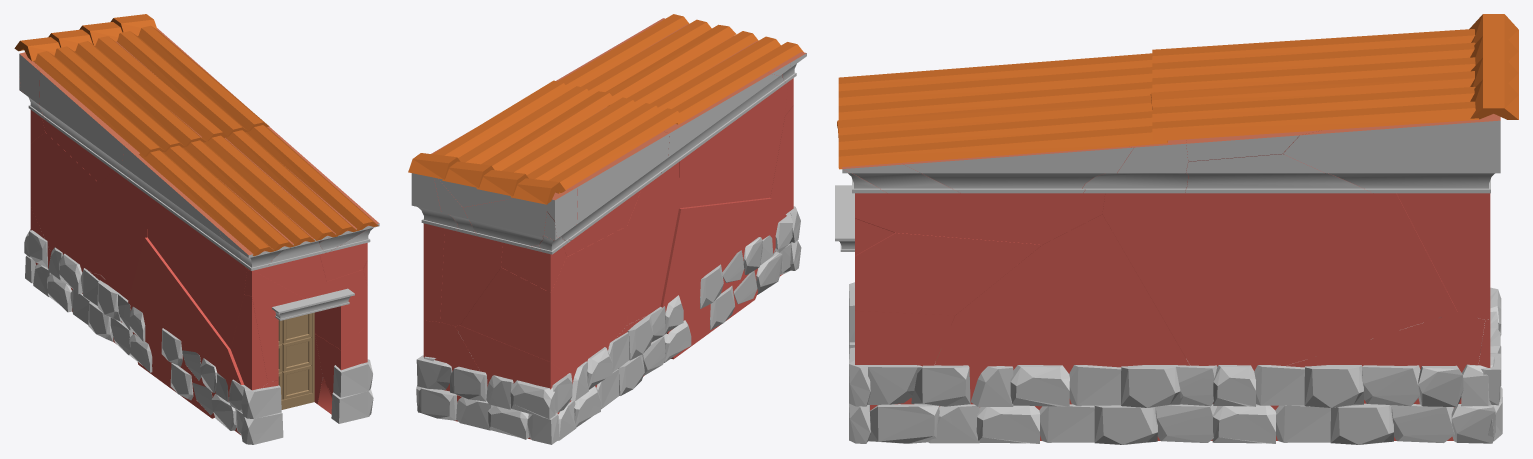
File: attachment_02_fragments.fbx
The picture shows the model from 3 angles, left to right: view 1: azimuth 30°, elevation 25°; view 2: azimuth 150°, elevation 25°; view 3: azimuth 270°, elevation 25°; orthographic projection. The views are drawn at different scales.
Visible parts, largest first — view 1: Object243.001_cell.009, Object243.001_cell.021, Object243.001_cell.006, Object243.001_cell.020, Object243_cell.013, Object243_cell.010, Object243.003, Object243.009, Object243.007, Object243.001_cell.013, Object243.008, Object243.005 (+47 smaller); view 2: Object243.001_cell.021, Object243.001_cell.009, Object243.001_cell.006, Object243.001_cell.020, Object243_cell.013, Object243.001_cell.019, Object243_cell.010, Object243_cell.011, Object243.001_cell.011, Object243.009, Object243.006, Object243.008 (+50 smaller); view 3: Object243.001_cell.020, Object243.001_cell.007, Object243_cell.014, Object243.001_cell.013, Object243.001_cell.015, Object243.001_cell.018, Object243_cell, Object243.008, Object243.001_cell.008, Object243.018, Object243_cell.002, Object243.006 (+45 smaller).
Part boxes in pixels (<box>): Object243.001_cell.009: <box>128,237,244,418</box>; Object243.001_cell.021: <box>30,132,100,274</box>; Object243.001_cell.006: <box>147,195,247,349</box>; Object243.001_cell.020: <box>100,170,147,300</box>; Object243_cell.013: <box>35,59,246,180</box>; Object243_cell.010: <box>122,126,282,263</box>; Object243.003: <box>278,312,320,409</box>; Object243.009: <box>33,51,165,156</box>; Object243.007: <box>116,31,247,136</box>; Object243.001_cell.013: <box>314,269,367,349</box>; Object243.008: <box>138,25,269,131</box>; Object243.005: <box>75,41,206,146</box>; Object243.001_cell.021: <box>460,226,627,379</box>; Object243.001_cell.009: <box>660,197,786,359</box>; Object243.001_cell.006: <box>679,83,788,208</box>; Object243.001_cell.020: <box>627,162,678,324</box>; Object243_cell.013: <box>537,113,669,245</box>; Object243.001_cell.019: <box>440,228,502,326</box>; Object243_cell.010: <box>601,50,785,174</box>; Object243_cell.011: <box>463,198,546,247</box>; Object243.001_cell.011: <box>455,325,573,439</box>; Object243.009: <box>548,108,683,193</box>; Object243.006: <box>481,91,616,170</box>; Object243.008: <box>432,80,569,157</box>; Object243.001_cell.020: <box>1102,193,1457,370</box>; Object243.001_cell.007: <box>934,214,1189,440</box>; Object243_cell.014: <box>1283,114,1500,193</box>; Object243.001_cell.013: <box>855,232,1041,315</box>; Object243.001_cell.015: <box>855,193,1104,244</box>; Object243.001_cell.018: <box>1396,193,1490,319</box>; Object243_cell: <box>901,146,1133,193</box>; Object243.008: <box>1152,101,1479,141</box>; Object243.001_cell.008: <box>1211,312,1485,440</box>; Object243.018: <box>838,126,1167,169</box>; Object243_cell.002: <box>1185,154,1372,193</box>; Object243.006: <box>1150,71,1474,109</box>.
Bounding box in the file's own units: 288 × 507 × 909.
